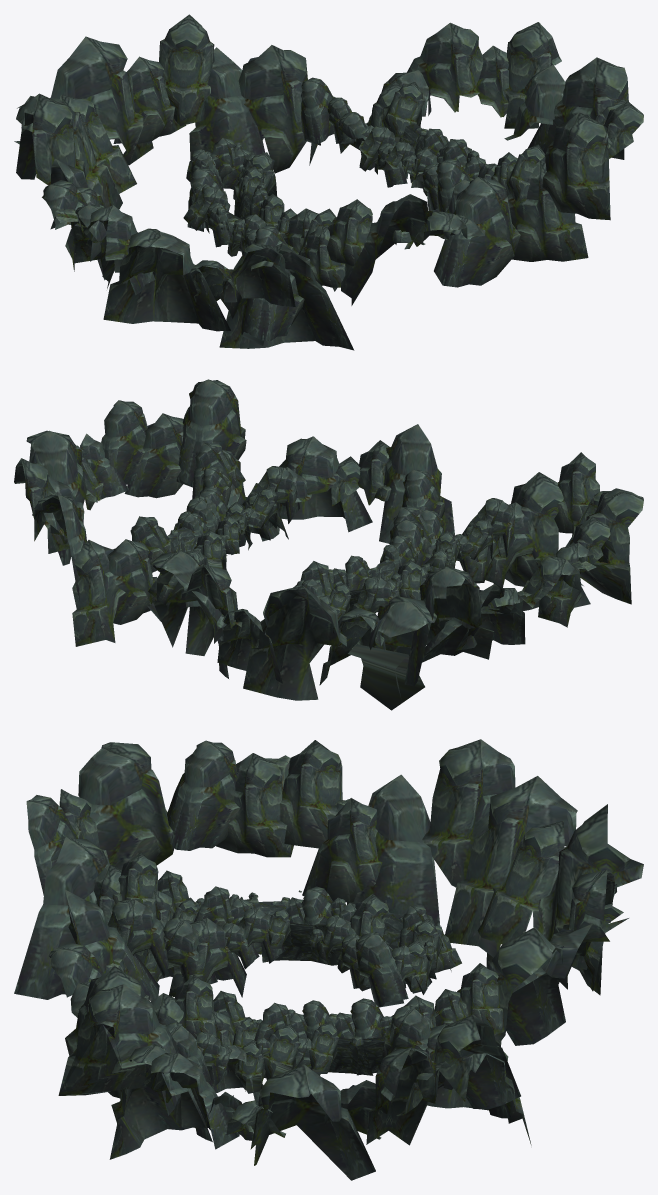
Rendered from mesh_shan.FBX.
3 renders of one model, top to bottom at view 1: azimuth 30°, elevation 25°; view 2: azimuth 150°, elevation 25°; view 3: azimuth 270°, elevation 25°, orthographic. The views are drawn at different scales.
Visible parts, largest first — view 1: mesh_shan; view 2: mesh_shan; view 3: mesh_shan.
Boxes of the visible parts, box(x1,y1,x2,y2) form: mesh_shan: box(14, 14, 643, 350); mesh_shan: box(14, 379, 643, 710); mesh_shan: box(14, 739, 643, 1180).
Bounding box in the file's own units: 10985 × 2925 × 8484.
Materials: 1 (1 with a texture image).
